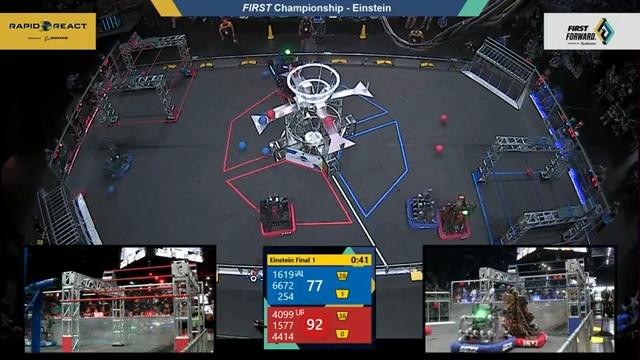robot: (449, 289, 516, 353), (503, 297, 549, 349), (253, 191, 301, 237), (91, 139, 139, 181), (400, 187, 443, 230), (435, 193, 473, 241), (25, 317, 58, 350)
